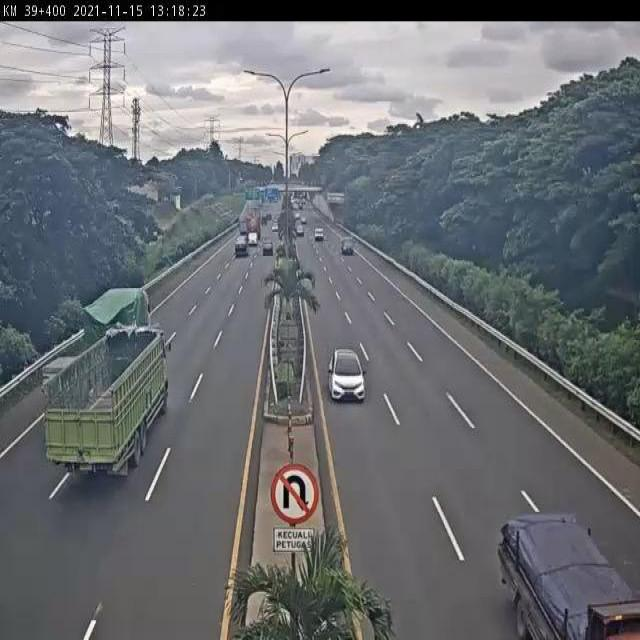car: (328, 348, 369, 405)
truck-l-: (42, 329, 170, 479)
truck-m-: (39, 285, 155, 399)
